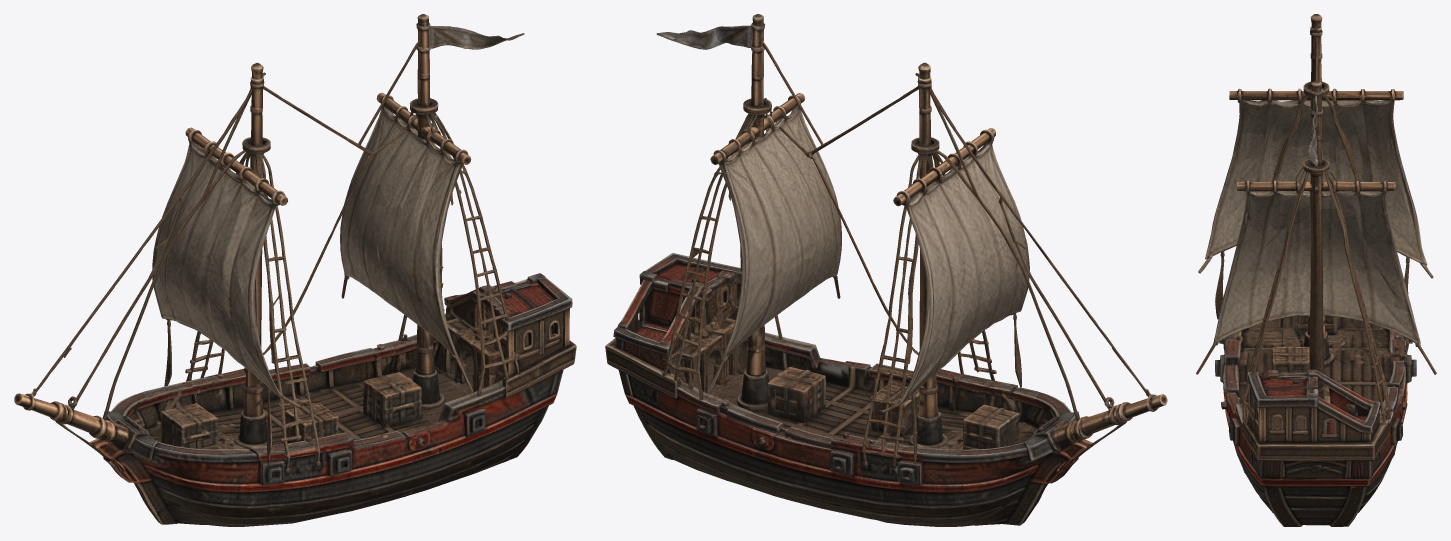
Rendered from merchant_brig_2912.glb.
3 renders of one model, left to right at view 1: azimuth 30°, elevation 25°; view 2: azimuth 150°, elevation 25°; view 3: azimuth 270°, elevation 25°, orthographic. The views are drawn at different scales.
Parts seen in each view (by area): view 1: output_unwrapped; view 2: output_unwrapped; view 3: output_unwrapped.
Boxes of the visible parts, left/top/right/bottom form: output_unwrapped: left=14, top=14, right=576, bottom=526; output_unwrapped: left=605, top=14, right=1167, bottom=526; output_unwrapped: left=1196, top=14, right=1436, bottom=526.
Size of the model in its own units: 1.9 by 1.54 by 0.8166.
Materials: 1 (1 with a texture image).
